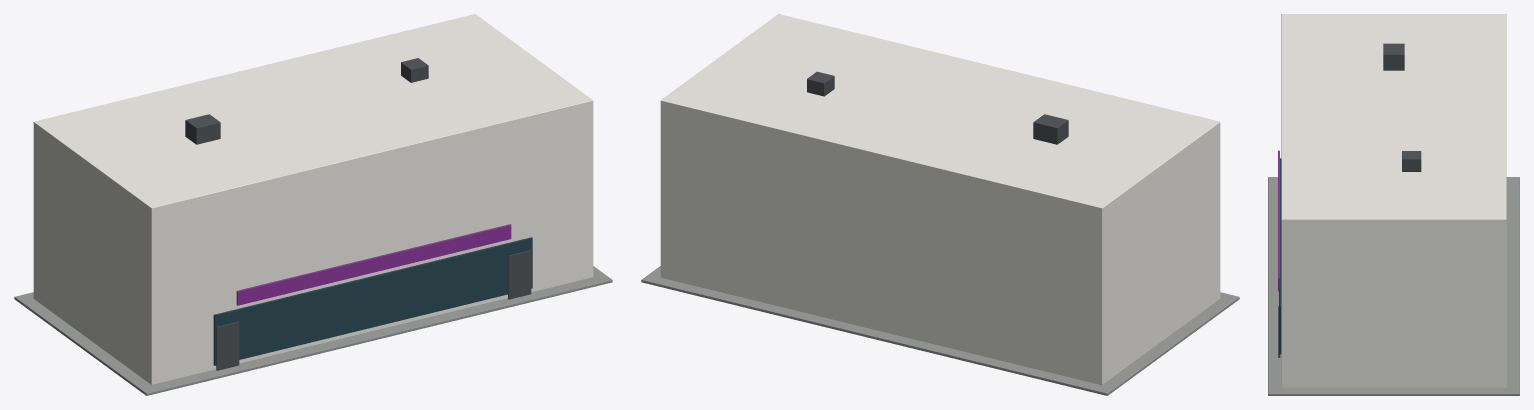
The model's file is Building_Commercial_008.glb.
3 views of the same model, side by side, from view 1: azimuth 30°, elevation 25°; view 2: azimuth 150°, elevation 25°; view 3: azimuth 270°, elevation 25° (orthographic). The views are drawn at different scales.
Visible parts, largest first — view 1: Building_Commercial_008; view 2: Building_Commercial_008; view 3: Building_Commercial_008.
Part boxes in pixels (<box>): Building_Commercial_008: <box>14,14,612,395</box>; Building_Commercial_008: <box>641,14,1239,395</box>; Building_Commercial_008: <box>1268,14,1519,395</box>.
Size of the model in its own units: 28.9 by 11.66 by 14.2.
